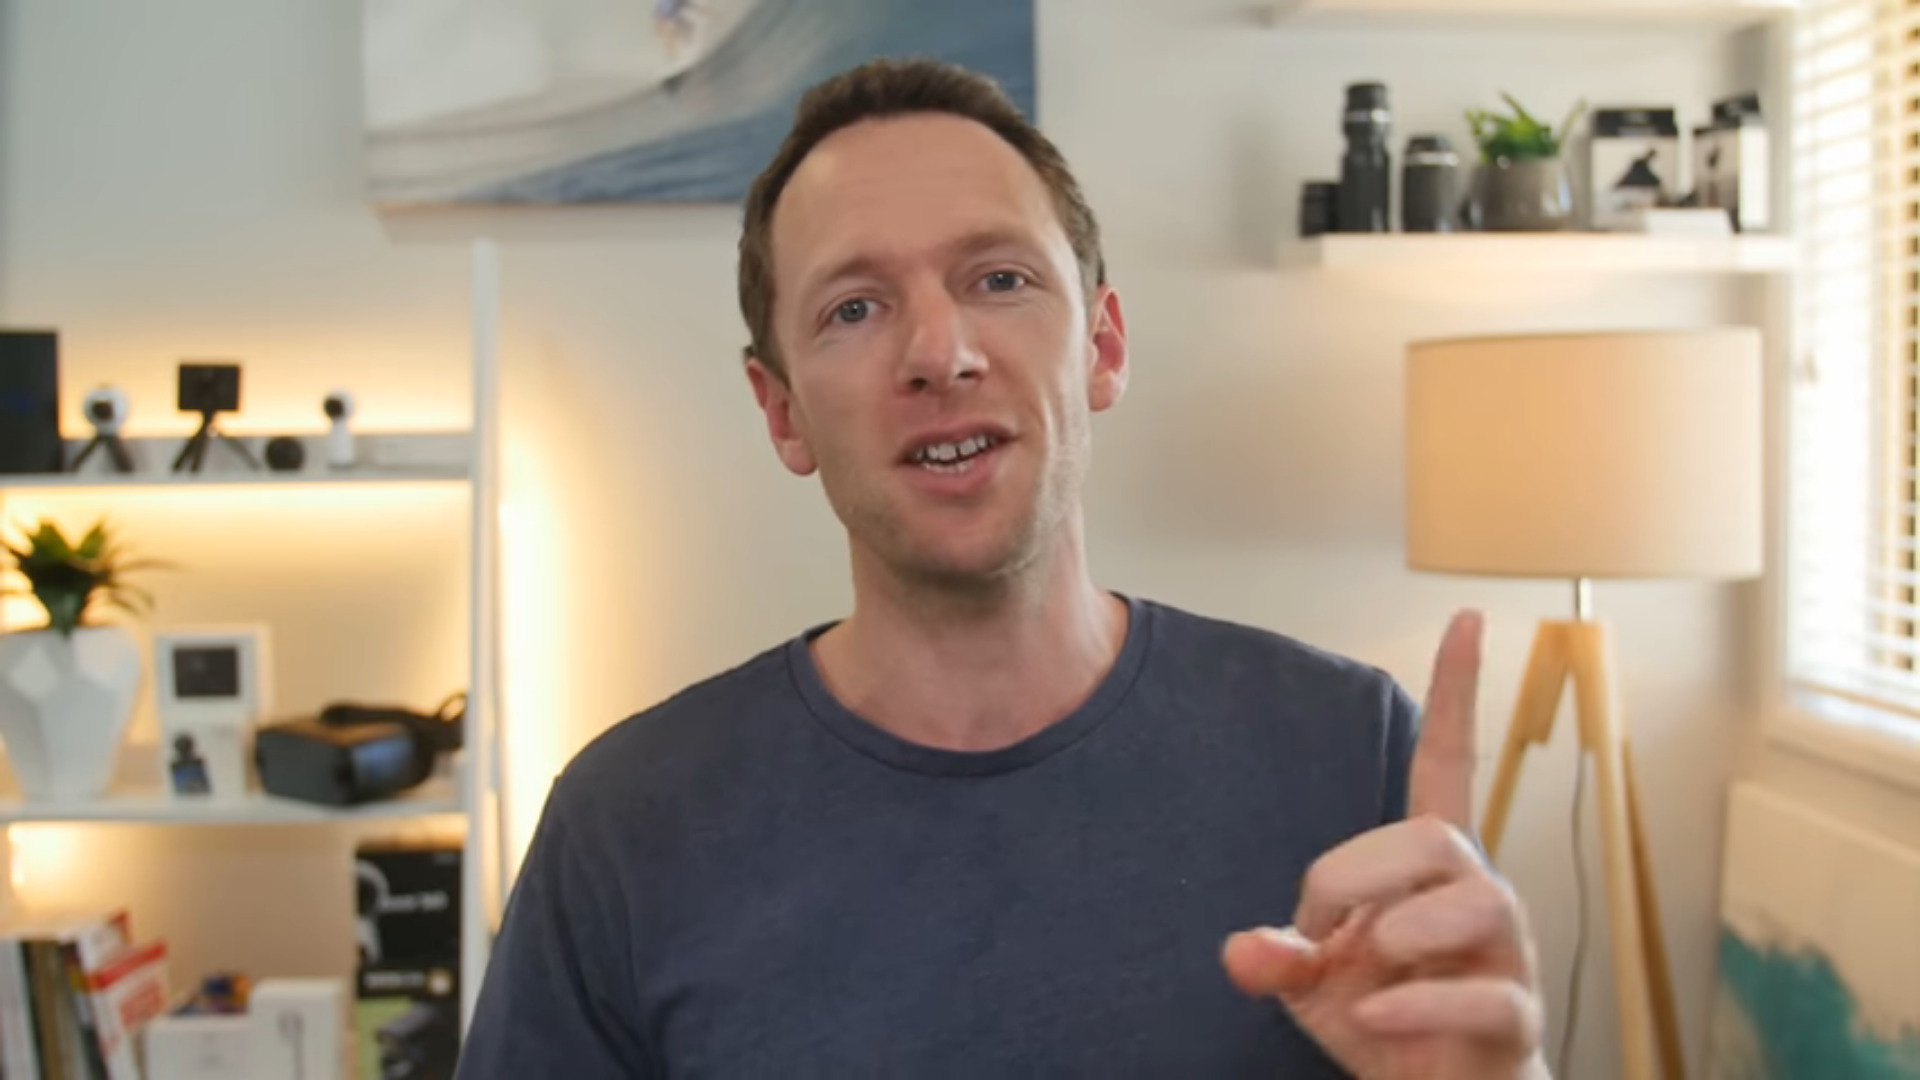hand: (1217, 607, 1561, 1071)
